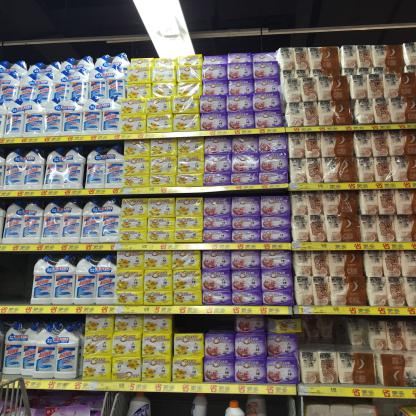Void: (306, 319, 345, 350), (6, 256, 29, 303), (179, 318, 231, 332)
